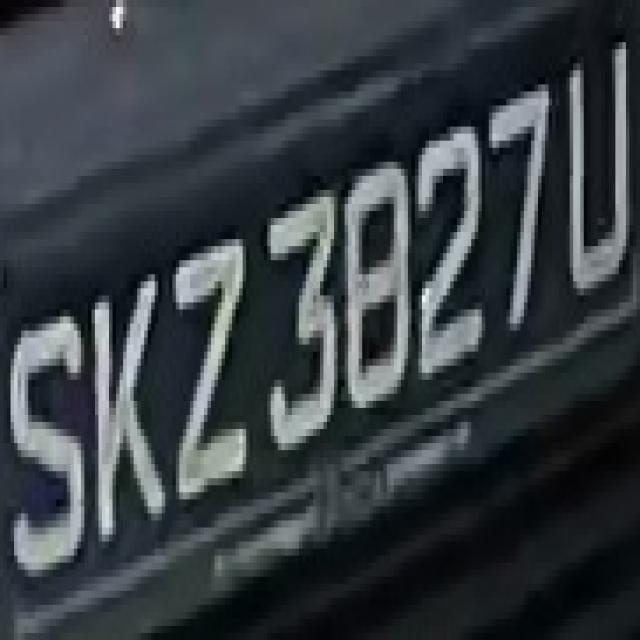2: (408, 112, 492, 401)
3: (264, 169, 344, 464)
7: (475, 56, 552, 359)
8: (334, 148, 422, 443)
K: (84, 260, 166, 556)
S: (10, 288, 84, 584)
U: (562, 42, 630, 310)
Z: (154, 246, 264, 528)
